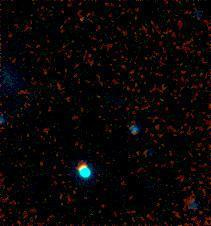star: (68, 4, 98, 34)
